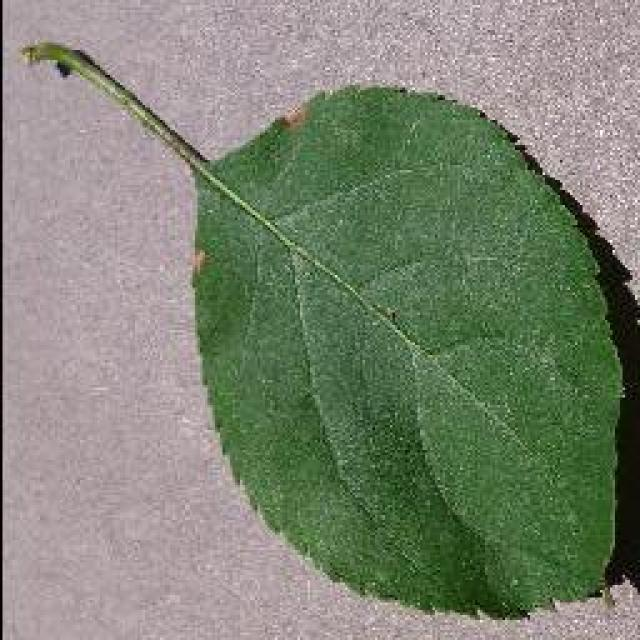Black_rot: (20, 38, 632, 620)
